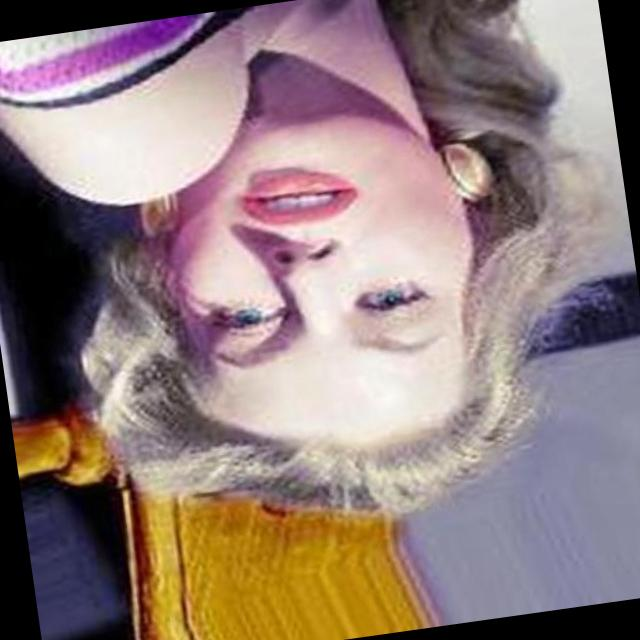bareface: (134, 83, 521, 548)
